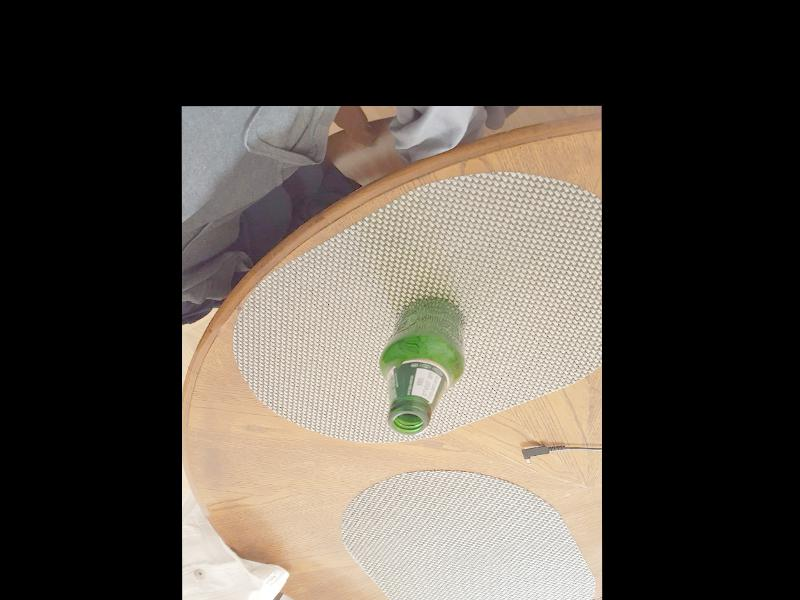Beer: (378, 296, 463, 433)
